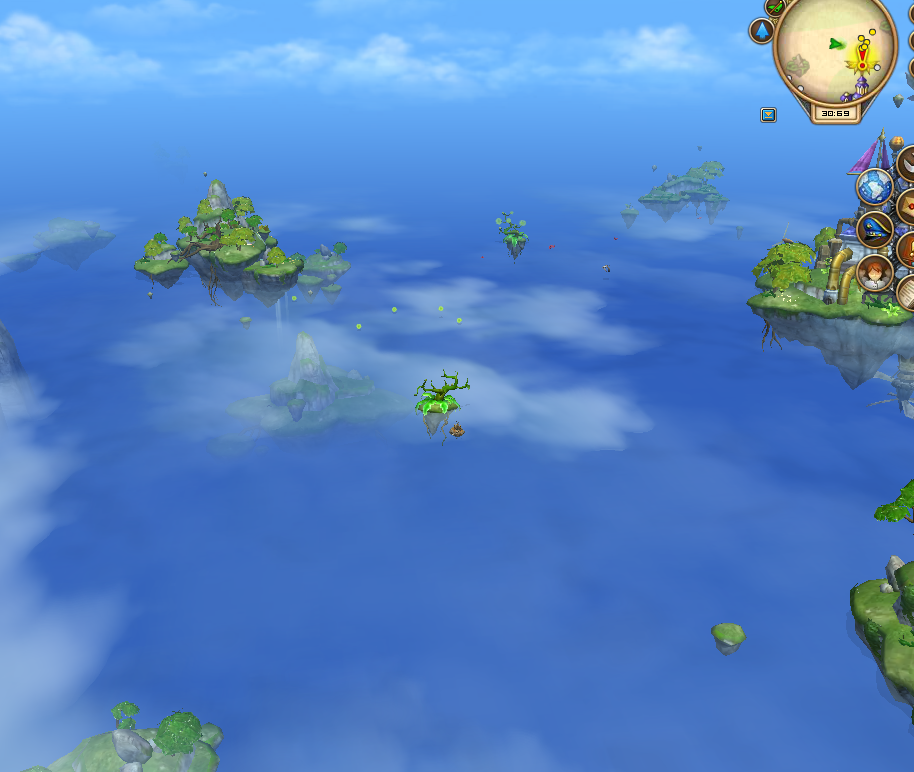dandelion-full: (490, 205, 535, 259)
fluff: (388, 302, 399, 314), (289, 293, 299, 303), (435, 303, 445, 313), (454, 316, 463, 325), (355, 321, 361, 330)
